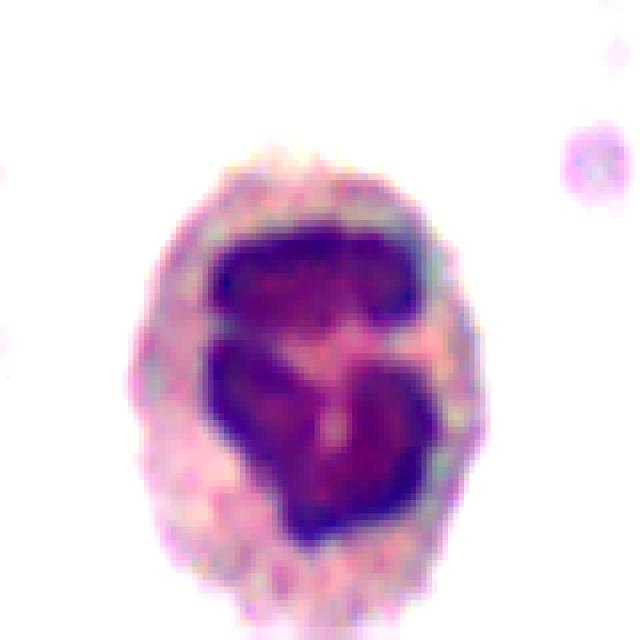WBC: (123, 133, 485, 640)
